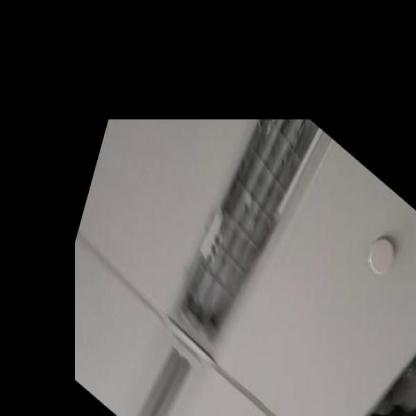light_off: (163, 56, 331, 406)
